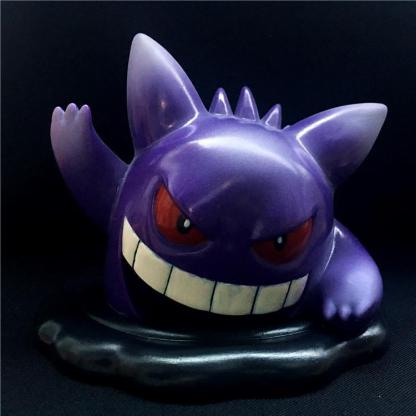Gengar: (30, 23, 402, 352)
